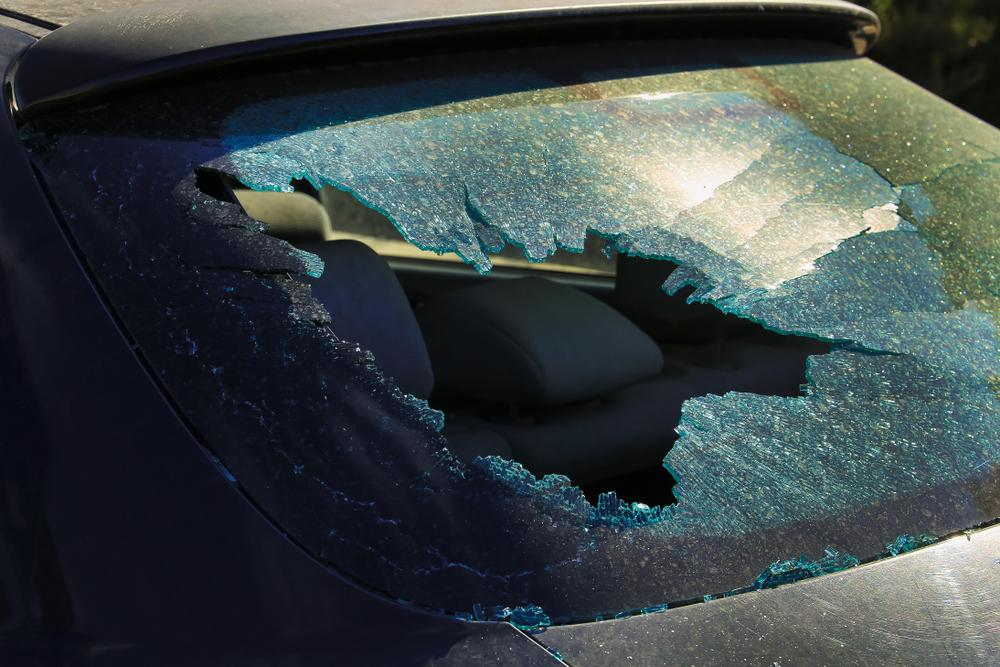glass shatter: (20, 39, 1000, 624)
